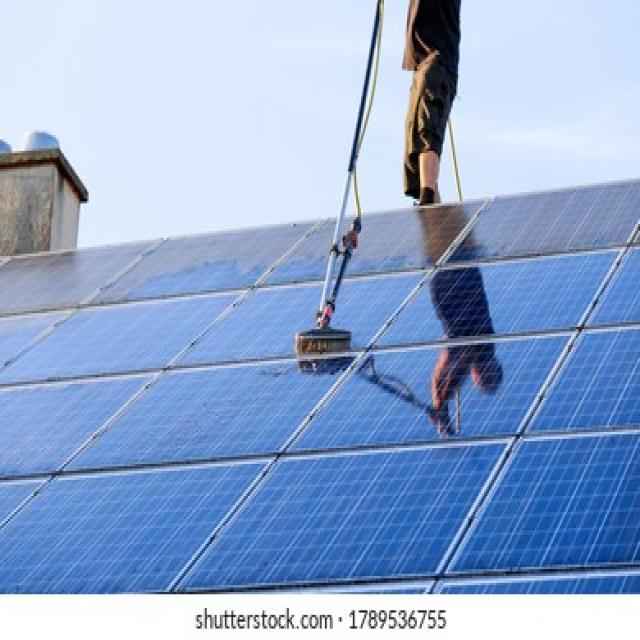clean-solar-panel: (1, 179, 640, 636)
